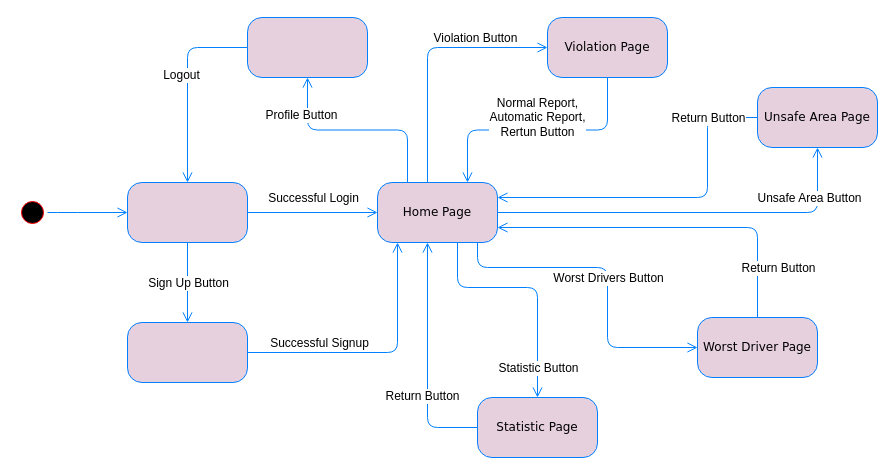
Image size: 895x475. Some labels were removed from this diagram. The centre of each missing label's shape, as x and y in pixels:
"Login Page" belongs at [187,212].
"Signup Page" belongs at [187,352].
"User Profile Page" belongs at [307,47].
